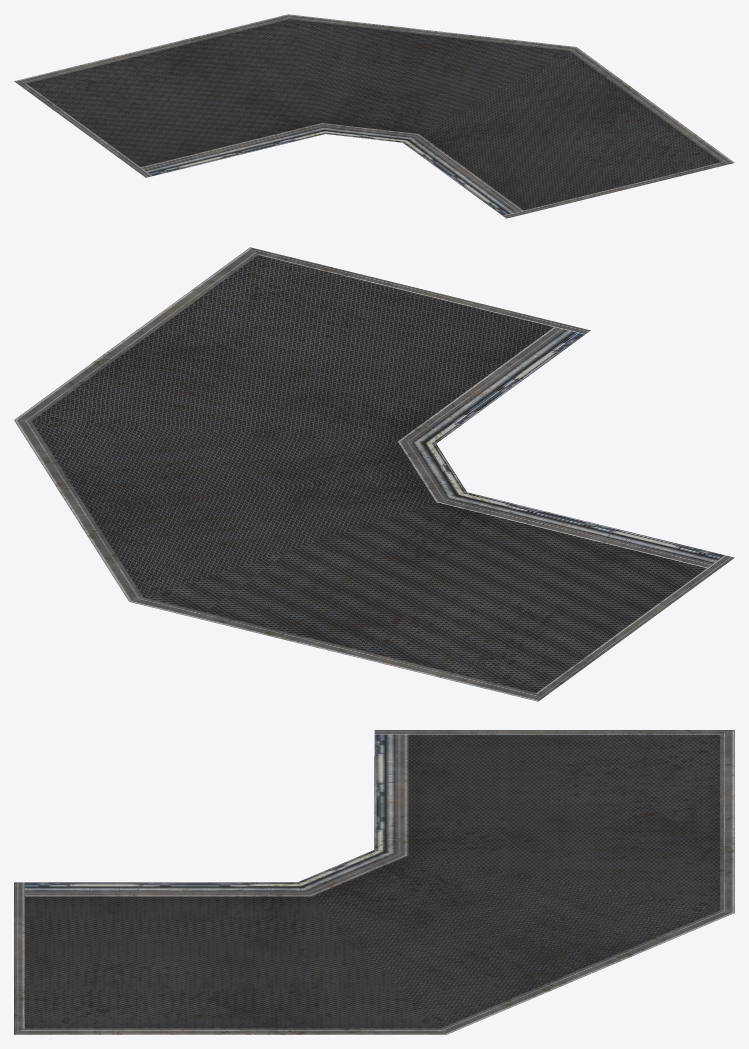
The model's file is Floor_A_5mts_11.fbx.
3 views of the same model, one above another, from view 1: azimuth 30°, elevation 25°; view 2: azimuth 150°, elevation 25°; view 3: azimuth 270°, elevation 25° (orthographic). The views are drawn at different scales.
Visible parts, largest first — view 1: Floor_A_5mts_11; view 2: Floor_A_5mts_11; view 3: Floor_A_5mts_11.
Boxes of the visible parts, box(x1,y1,x2,y2) form: Floor_A_5mts_11: box(14, 14, 734, 218); Floor_A_5mts_11: box(14, 247, 734, 701); Floor_A_5mts_11: box(14, 730, 734, 1034).
Bounding box in the file's own units: 500 × 8.26e-05 × 500.
1 material, 1 textured.
